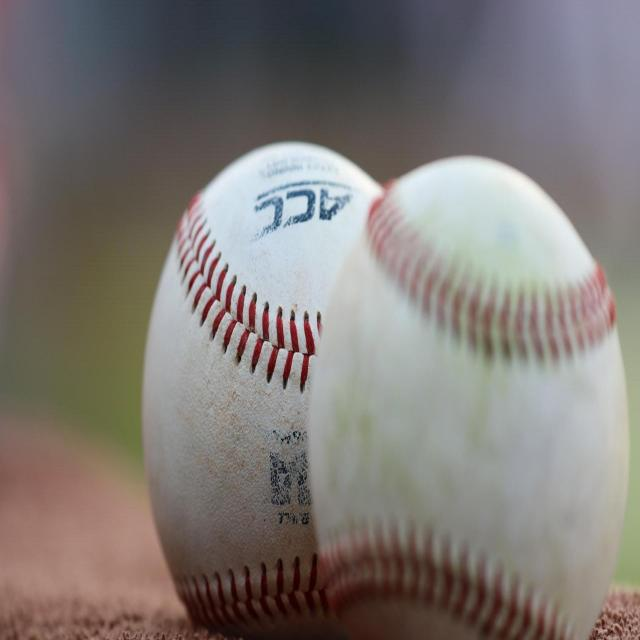baseball: (308, 150, 626, 640), (140, 143, 336, 635)
